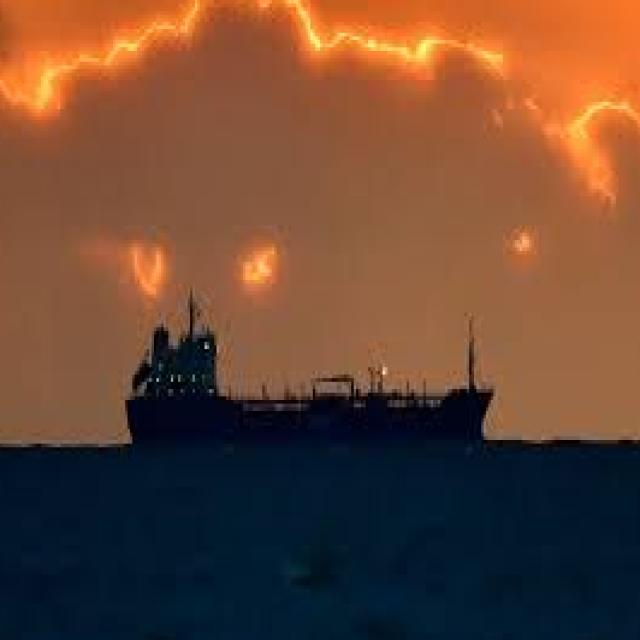cargoship: (126, 284, 494, 454)
